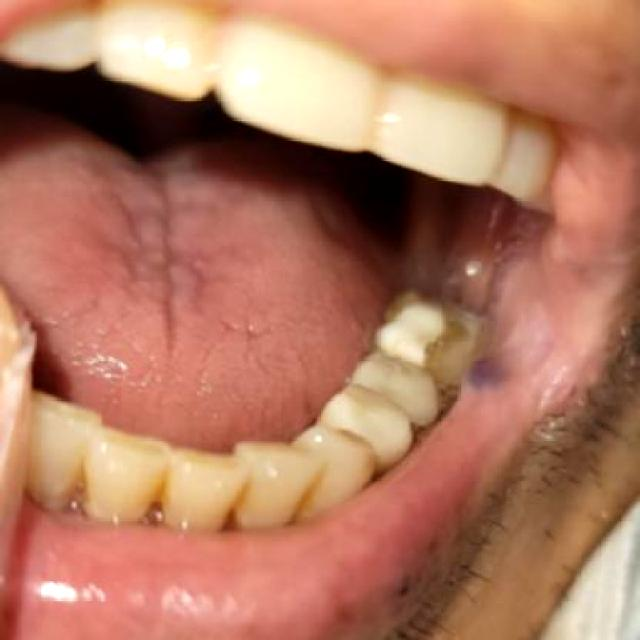Plaque: (374, 297, 455, 367)
